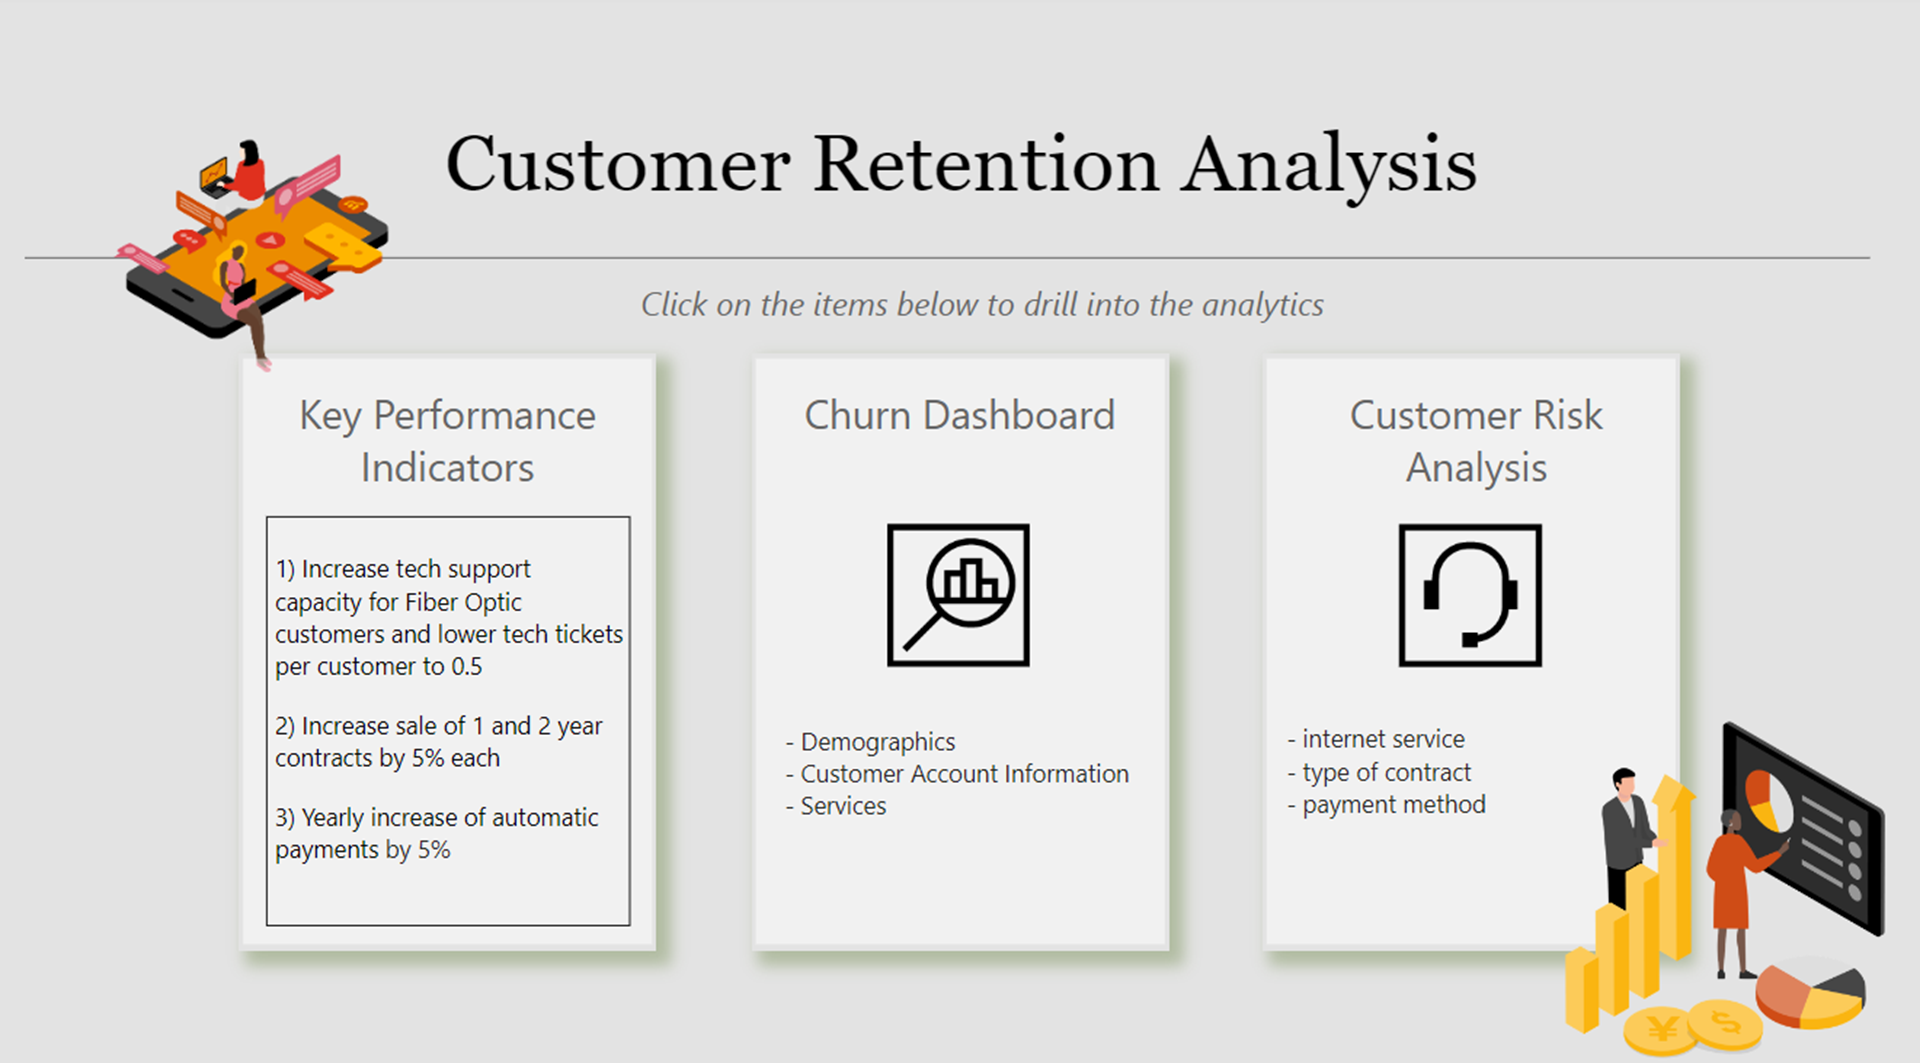

This screenshot's page, from the dashboard's own definition file:
{"tool":"powerbi","page":{"name":"Welcome","canvas":[1280,720],"ordinal":0},"visuals":[{"type":"basicShape","box":[500.5,238.4,276.8,396.5],"z":0},{"type":"basicShape","box":[839.4,238.4,276.8,396.5],"z":1000},{"type":"textbox","box":[0,77,1280,78.9],"z":2000},{"type":"basicShape","box":[7.9,155.9,1243.8,40.7],"z":3000},{"type":"image","box":[924.5,347.8,105,105],"z":4000},{"type":"textbox","box":[843.6,256.2,276.7,86.7],"z":5000},{"type":"image","box":[584.4,347.8,105,105],"z":6000},{"type":"textbox","box":[28.2,186.1,1251.8,51.6],"z":7000},{"type":"image","box":[0,0,362.6,328.8],"z":8000},{"type":"textbox","box":[500.9,256.2,276.7,86.7],"z":9000},{"type":"textbox","box":[517.4,479.5,255.3,140.1],"z":10000},{"type":"image","box":[1013.1,479.3,266.9,232.8],"z":12000},{"type":"textbox","box":[850.4,479.3,255.2,140.3],"z":13000},{"type":"basicShape","box":[160.4,238.4,276.8,396.5],"z":14000},{"type":"textbox","box":[160.7,256.2,276.7,86.7],"z":15000},{"type":"textbox","box":[178.3,347.8,241.6,271.8],"z":16000}]}

Visuals, with their boxes in screenshot pixels (x1, y1, x2, y2), scaled from the page's 1280x720 canvas onto the 1920x1063 screenshot:
basicShape: bbox=[751, 352, 1166, 937]
basicShape: bbox=[1259, 352, 1674, 937]
textbox: bbox=[0, 114, 1919, 230]
basicShape: bbox=[12, 230, 1878, 290]
image: bbox=[1387, 513, 1544, 669]
textbox: bbox=[1265, 378, 1680, 506]
image: bbox=[877, 513, 1034, 669]
textbox: bbox=[42, 275, 1919, 351]
image: bbox=[0, 0, 544, 485]
textbox: bbox=[751, 378, 1166, 506]
textbox: bbox=[776, 708, 1159, 915]
image: bbox=[1520, 708, 1919, 1051]
textbox: bbox=[1276, 708, 1658, 915]
basicShape: bbox=[241, 352, 656, 937]
textbox: bbox=[241, 378, 656, 506]
textbox: bbox=[267, 513, 630, 915]
